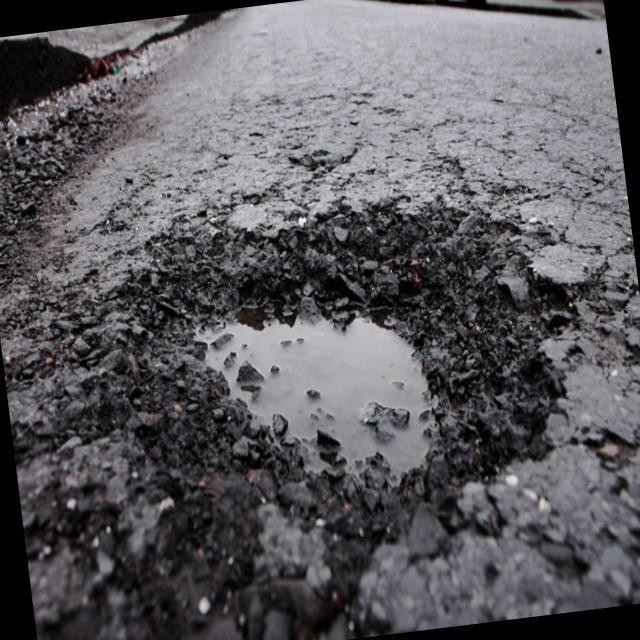Pothole: (150, 218, 526, 560)
